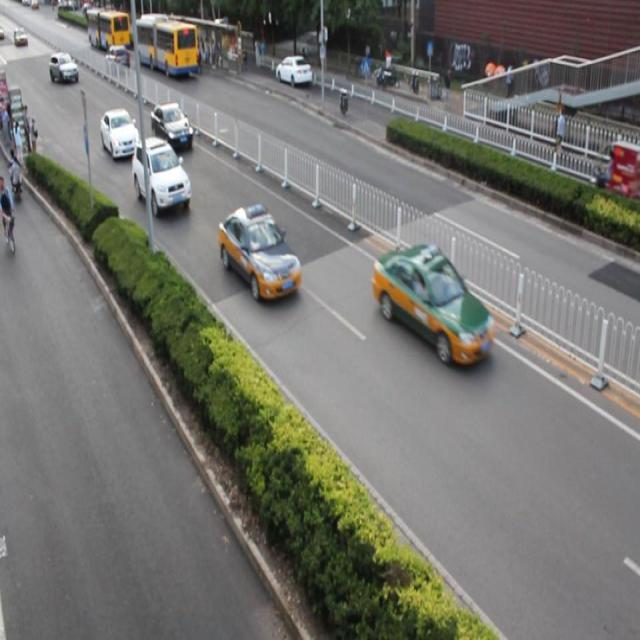car: (372, 240, 495, 368), (217, 201, 303, 304), (132, 137, 190, 215), (150, 102, 193, 154), (100, 109, 140, 161), (274, 55, 312, 87)
van: (133, 14, 198, 81)
